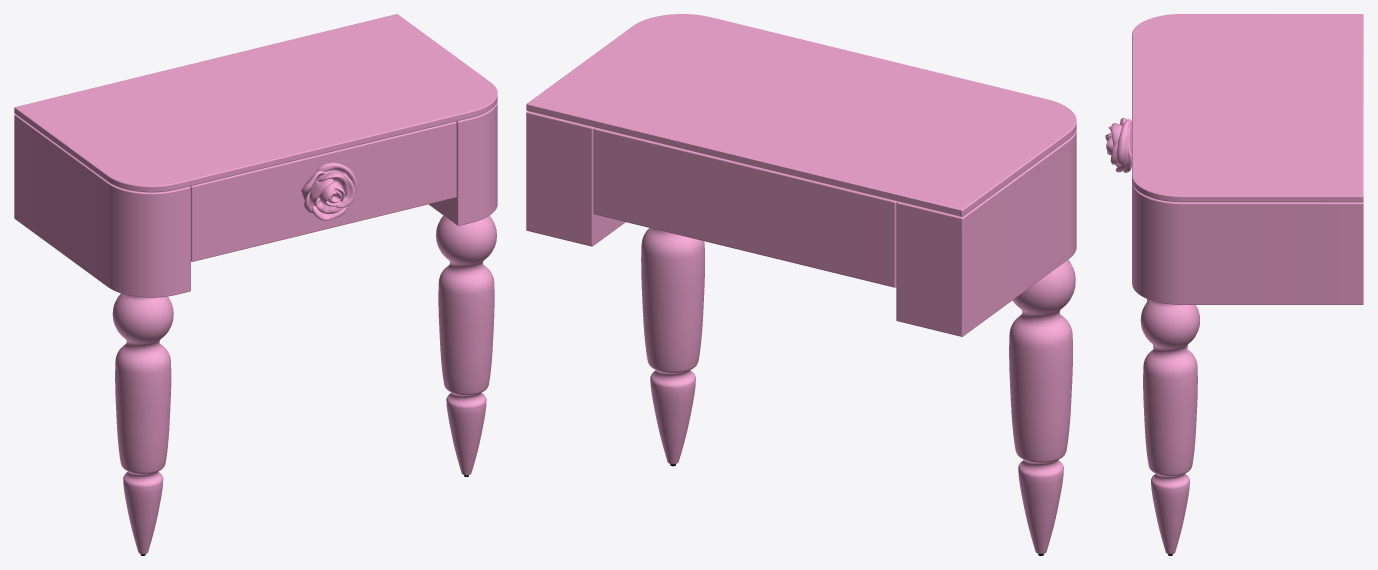
Rendered from eurolegno_amarcord_drawer_03_fbx_upZ.fbx.
3 views of the same model, side by side, from view 1: azimuth 30°, elevation 25°; view 2: azimuth 150°, elevation 25°; view 3: azimuth 270°, elevation 25° (orthographic). The views are drawn at different scales.
Visible parts, largest first — view 1: eurolegno_amarcord_drawer_03; view 2: eurolegno_amarcord_drawer_03; view 3: eurolegno_amarcord_drawer_03.
Boxes of the visible parts, x1,y1,x2,y2 form: eurolegno_amarcord_drawer_03: [14, 14, 497, 555]; eurolegno_amarcord_drawer_03: [526, 14, 1076, 555]; eurolegno_amarcord_drawer_03: [1105, 14, 1363, 555].
Bounding box in the file's own units: 93.06 × 55.71 × 88.68.
